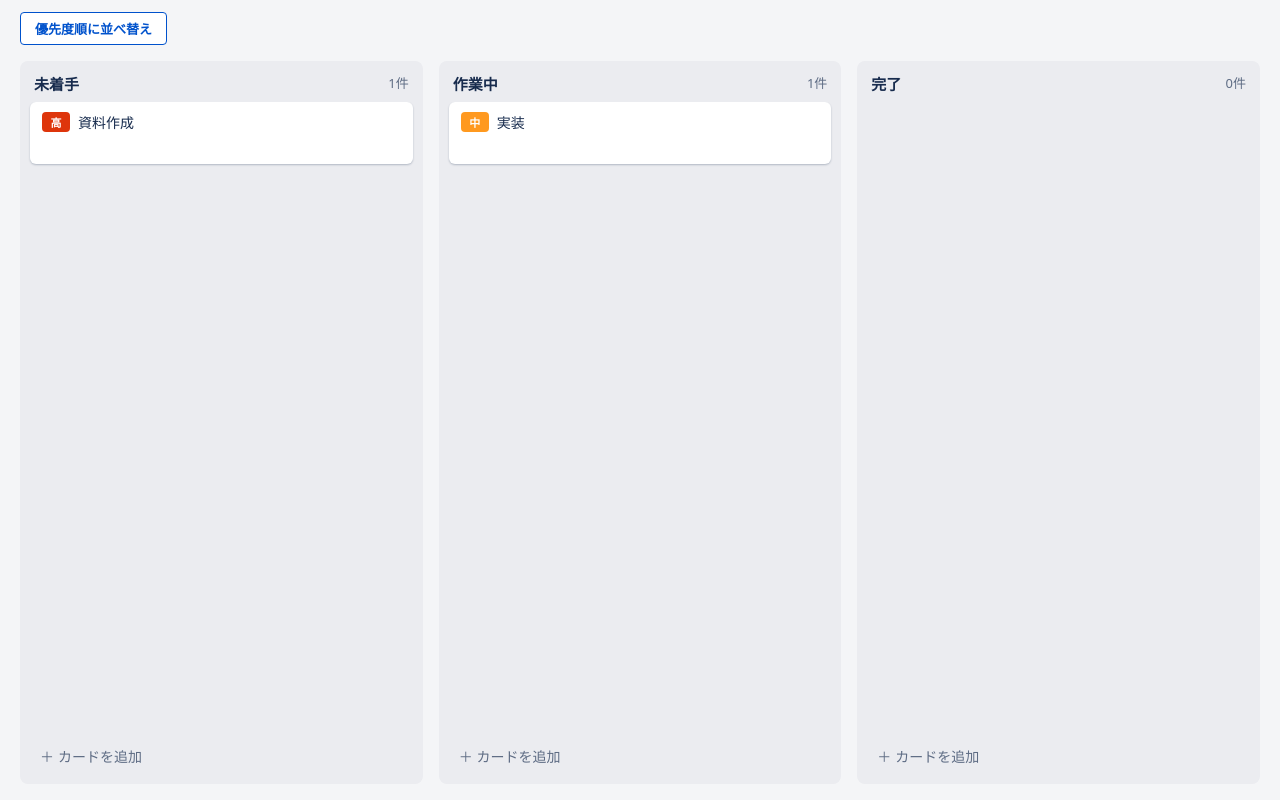
Test case: Board › 登録に失敗してもボードは表示したままで、その列に文言を出す
Click the 1st button "＋ カードを追加" at (91, 757), box x1=30 y1=738 x2=413 y2=774
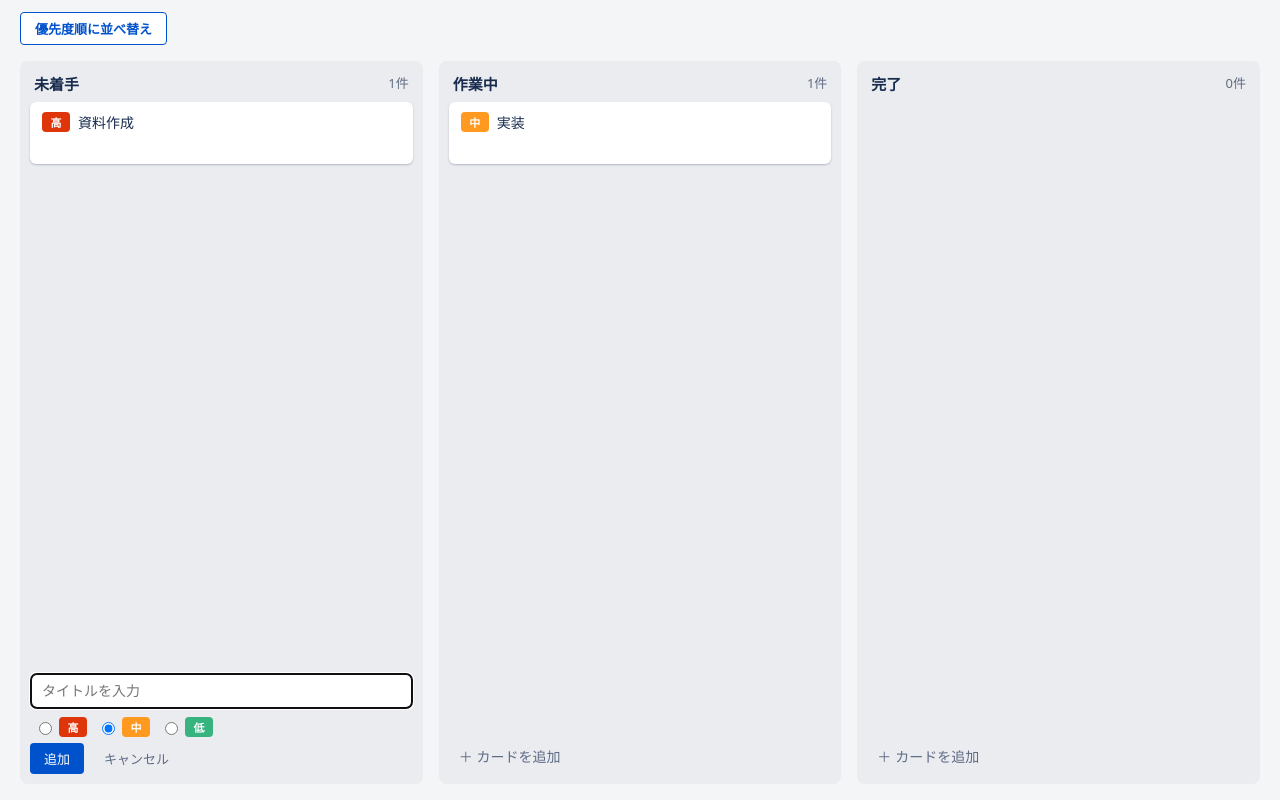
Type "x" into the field at (221, 691), box x1=30 y1=673 x2=413 y2=709
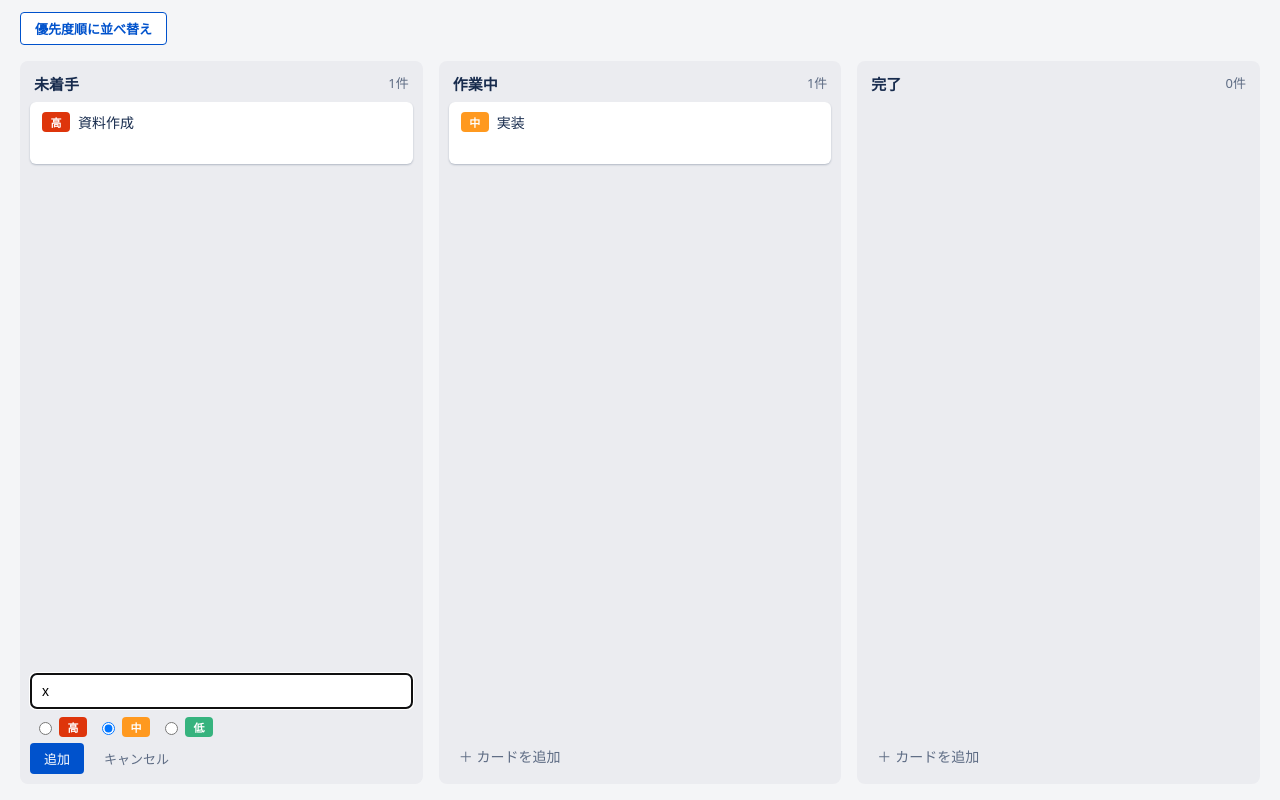
Click the button "追加" at (57, 758), box x1=30 y1=743 x2=84 y2=774
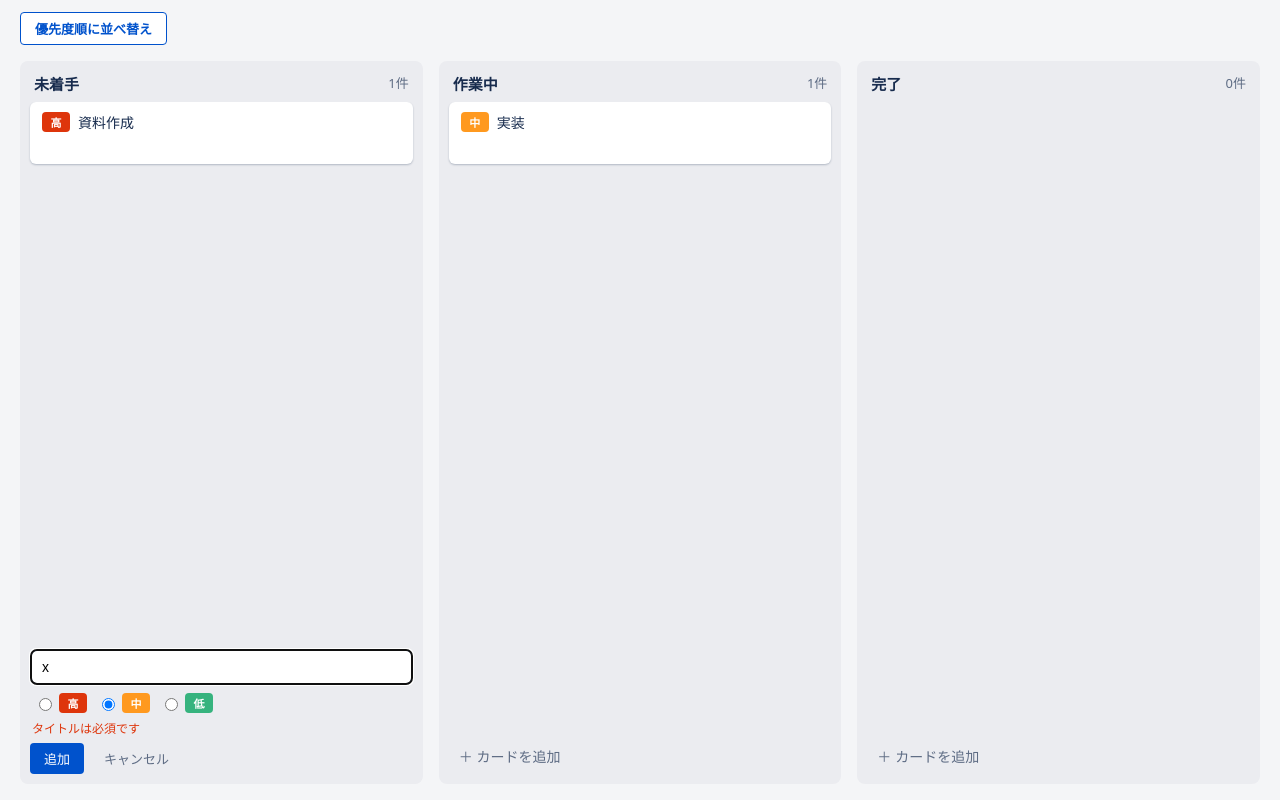
Expected: the text "作業中" is shown, x1=453 y1=73 x2=498 y2=94
Now the message reads "タイトルは必須です", box x1=32 y1=720 x2=140 y2=737
